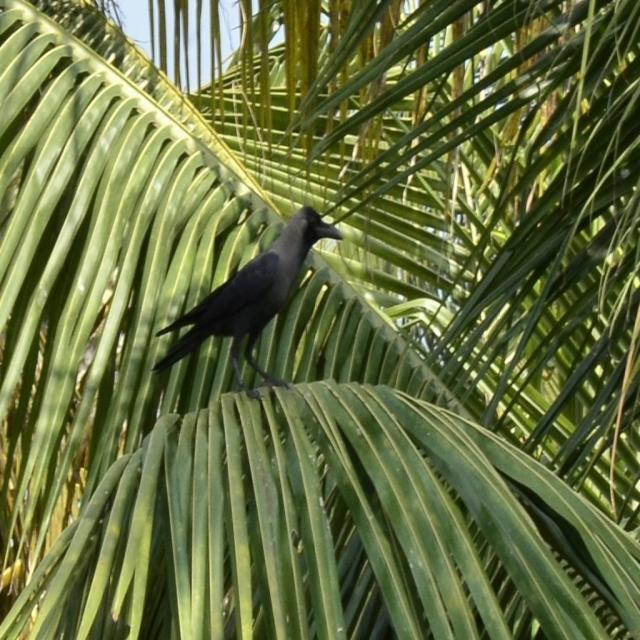bird: (148, 203, 346, 406)
